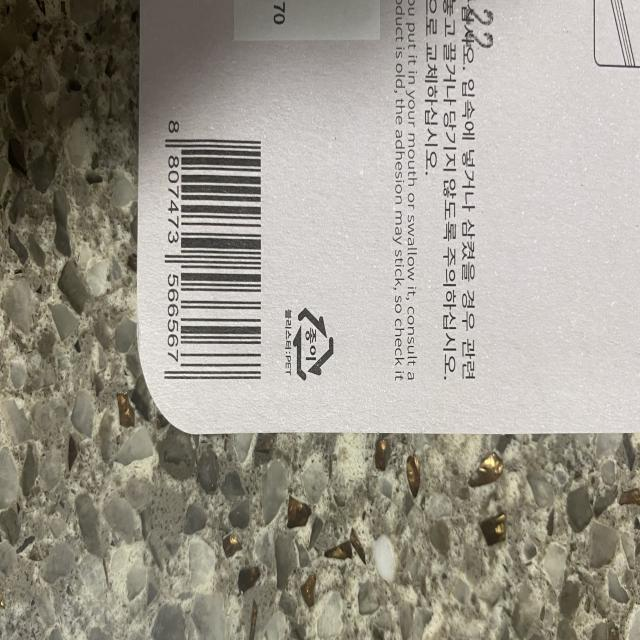Paper: (293, 301, 336, 382)
